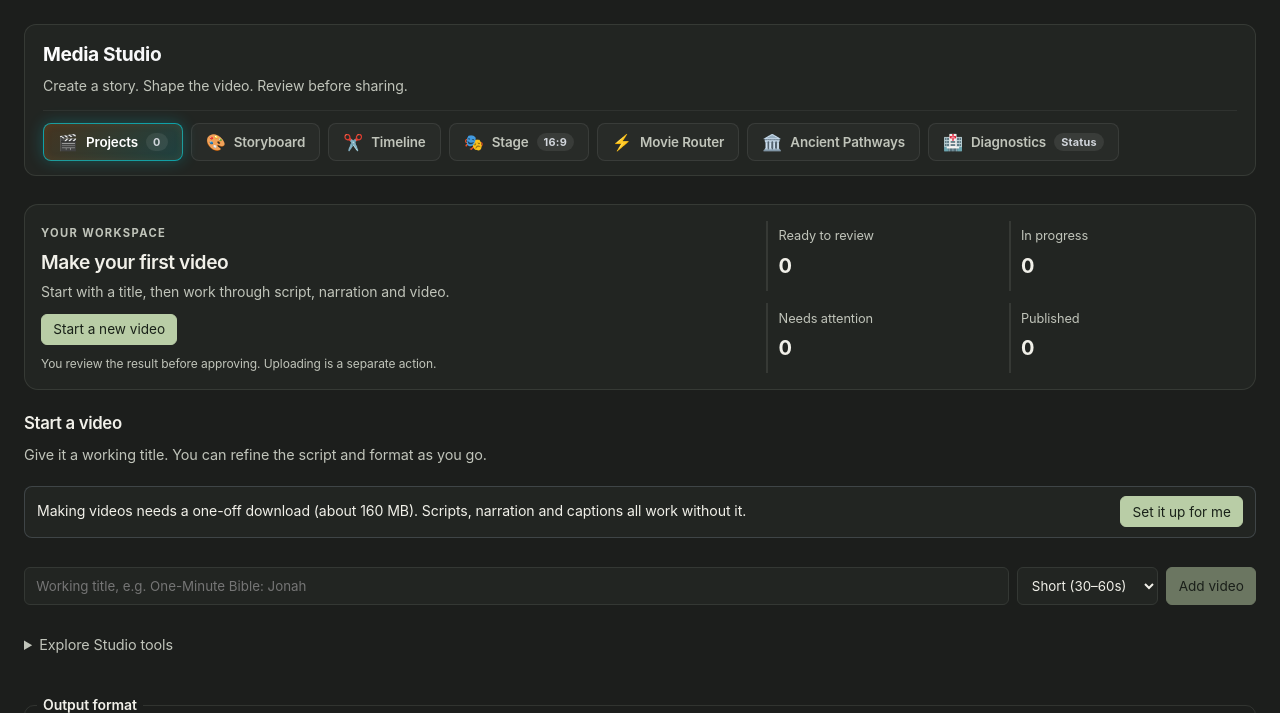
the button runs the setup and reports the result
Click the button "Set it up for me" at [1182, 512], box [1120,496,1243,527]
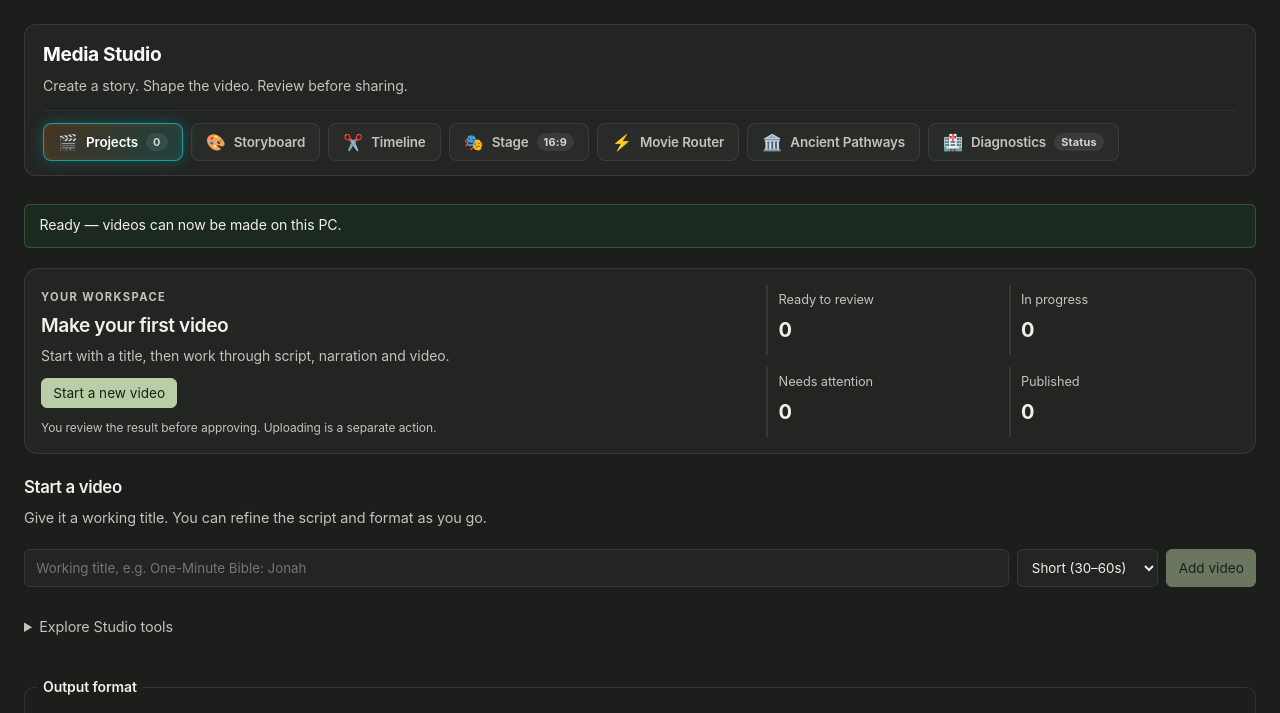
Expected: the text "Ready — videos can now be made on this PC." is shown, [24,204,1256,248]
Expected: the button "Set it up for me" is gone
